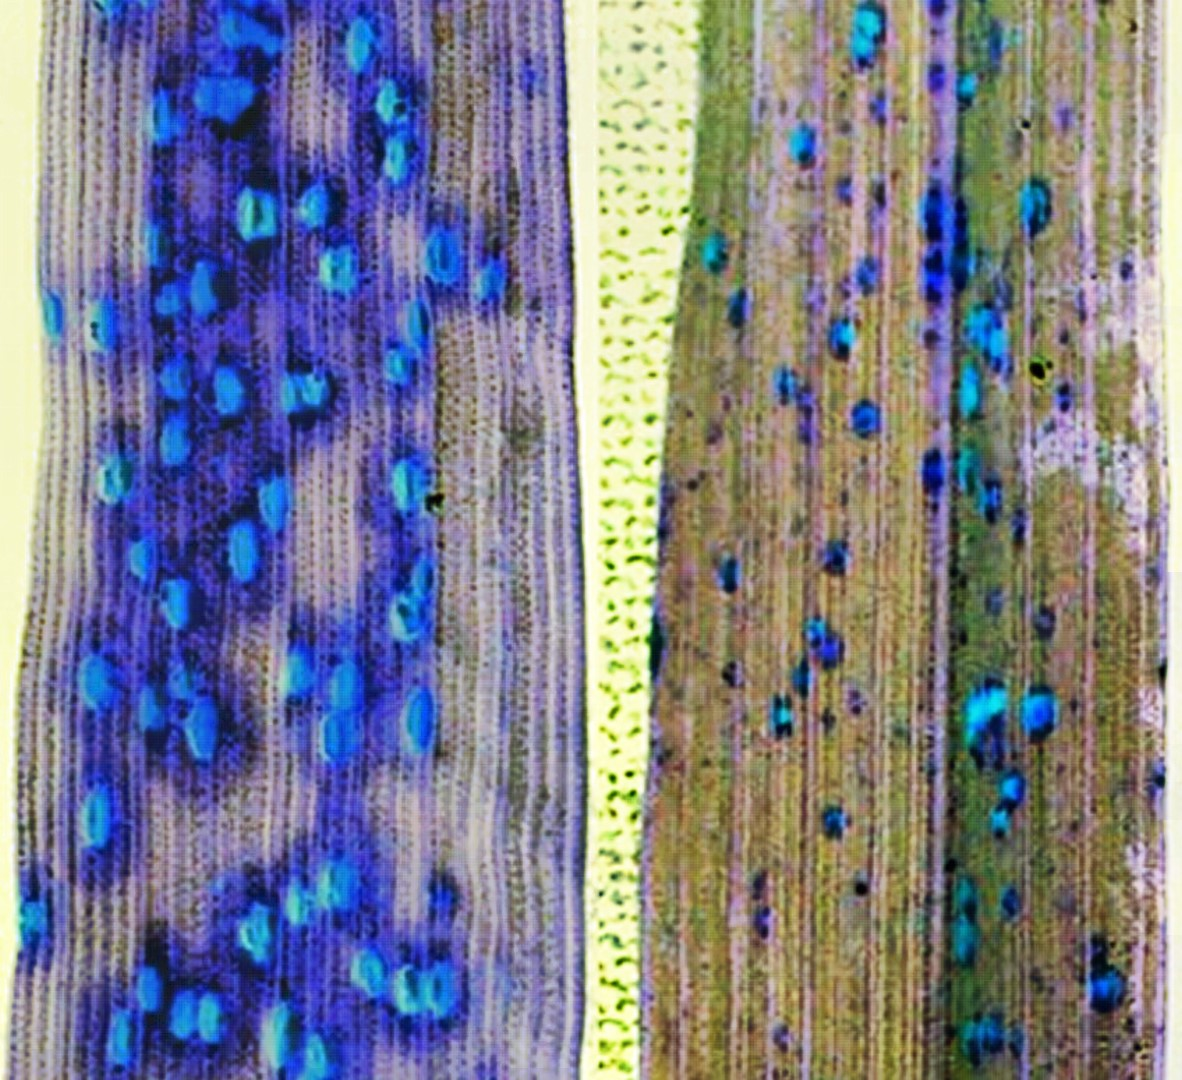Leaf Rust: (1, 36, 582, 1042)
